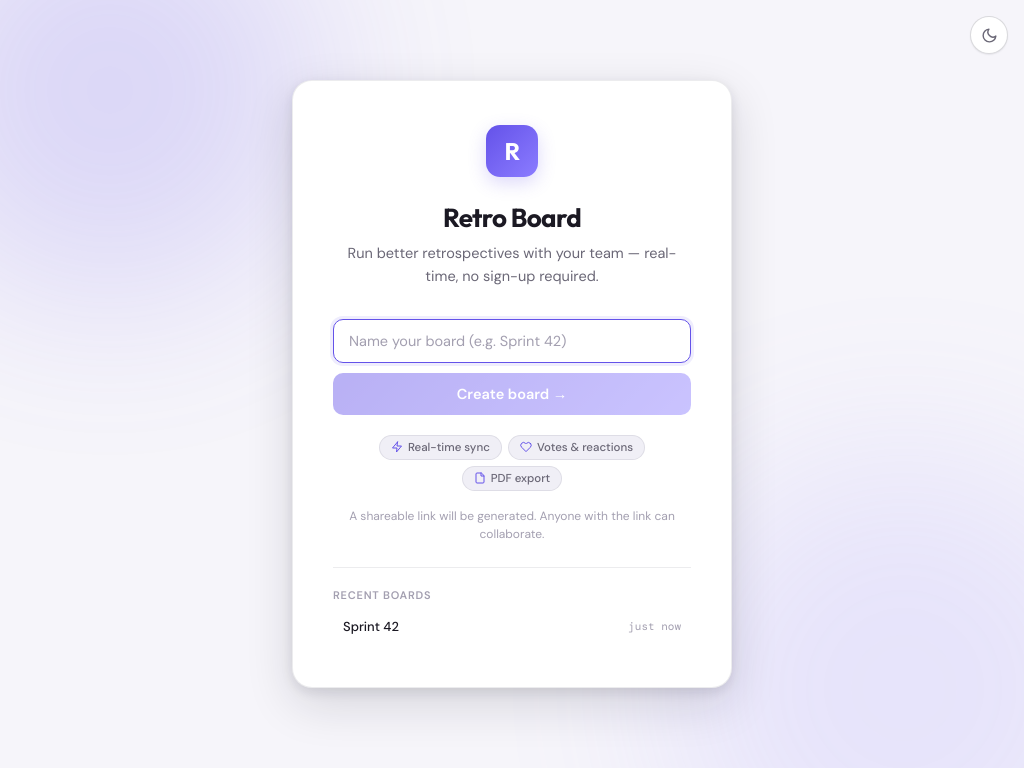
Test: App › shows an error toast if board creation fails
In the field with placeholder "Name your board (e.g. Sprint 42)": (512, 341) [333,319,691,363], type "Sprint 42"
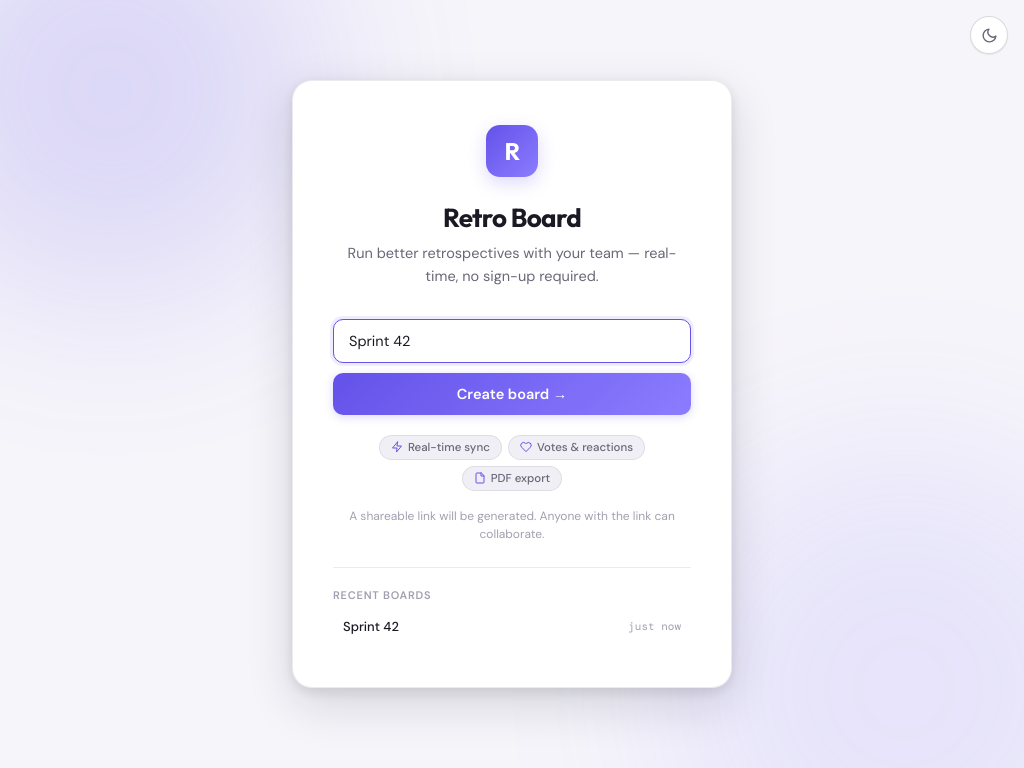
Click the button "Create board →": (512, 394) [333,373,691,415]
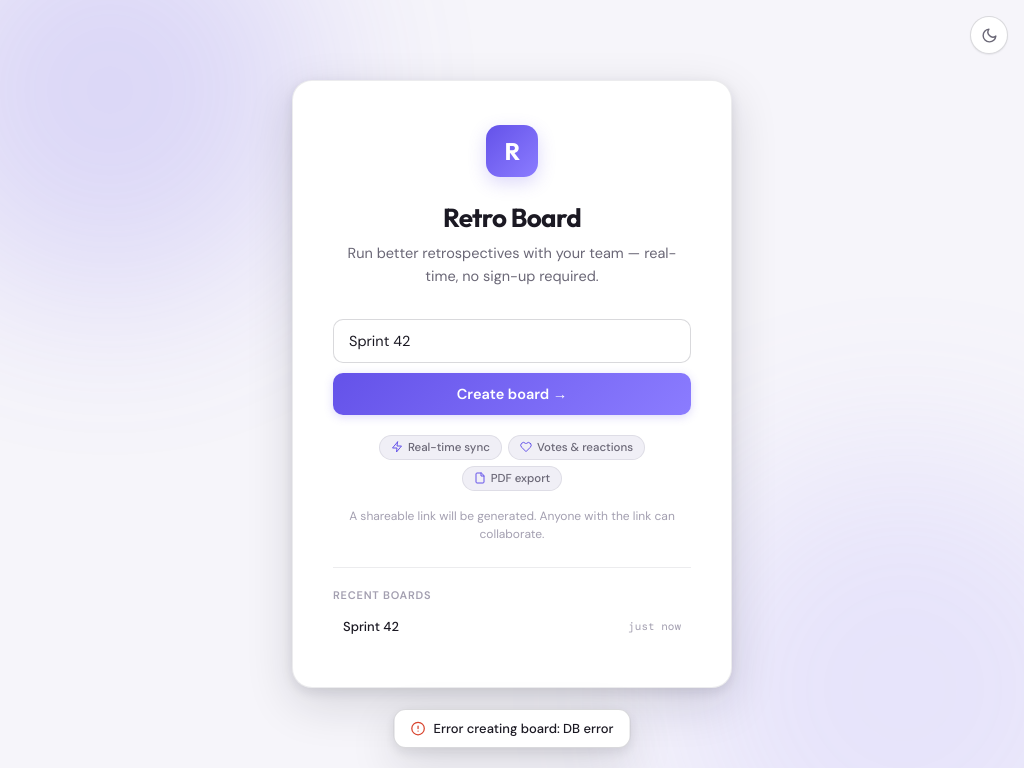
Check: the text "Error creating board: DB error" is shown, box [394,709,630,748]
